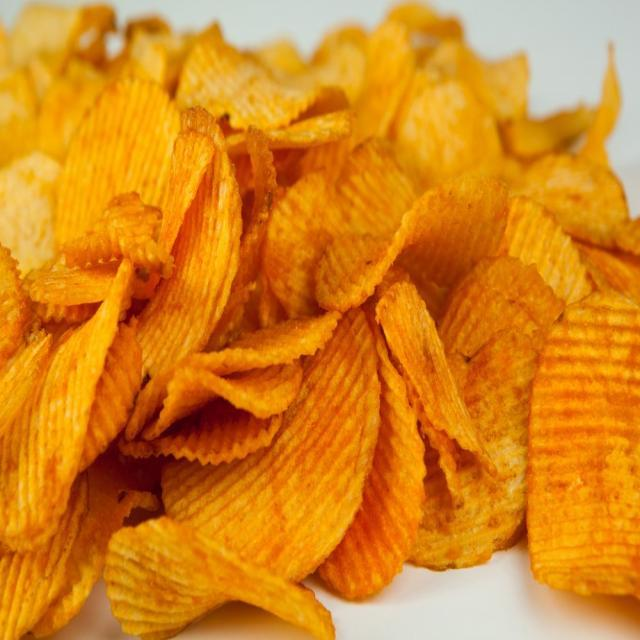Chips packaged: (19, 52, 625, 610)
